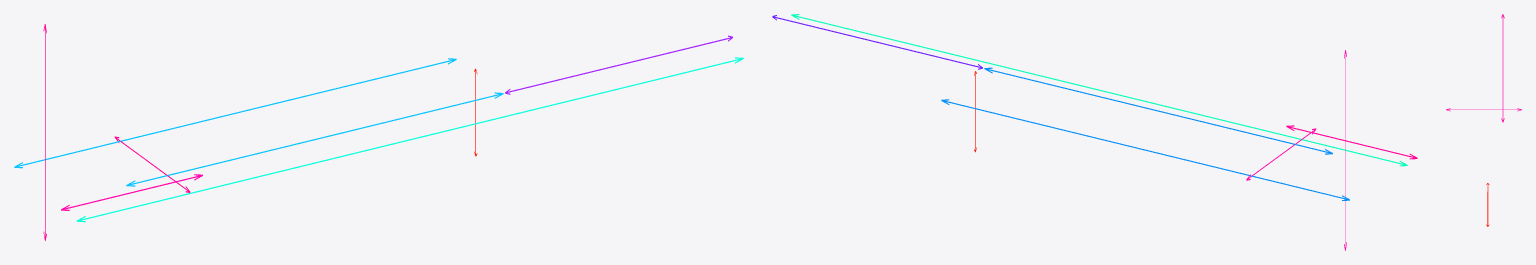
Rendered from fleches.gltf.
3 views of the same model, side by side, from view 1: azimuth 30°, elevation 25°; view 2: azimuth 150°, elevation 25°; view 3: azimuth 270°, elevation 25° (orthographic). The views are drawn at different scales.
Visible parts, largest first — view 1: longueur_totale_regie_drap_proj, fleches_9m_balcon_drap_proj, fleches_7m70_balcon_table_mix, fleches_7m20_balcon_to_regie; view 2: longueur_totale_regie_drap_proj, fleches_9m_balcon_drap_proj, fleches_7m70_balcon_table_mix, fleches_7m20_balcon_to_regie; view 3: fleches_6m_hauteur_scene, fleches_largeur_scene, fleches__2m50_hauteur_balcon.
Boxes of the visible parts, box(x1,y1,x2,y2) form: longueur_totale_regie_drap_proj: box(76, 57, 743, 222); fleches_9m_balcon_drap_proj: box(14, 58, 456, 168); fleches_7m70_balcon_table_mix: box(126, 92, 503, 186); fleches_7m20_balcon_to_regie: box(505, 35, 732, 94); longueur_totale_regie_drap_proj: box(791, 14, 1407, 166); fleches_9m_balcon_drap_proj: box(941, 99, 1349, 200); fleches_7m70_balcon_table_mix: box(984, 67, 1332, 154); fleches_7m20_balcon_to_regie: box(772, 15, 982, 69); fleches_6m_hauteur_scene: box(1501, 14, 1504, 122); fleches_largeur_scene: box(1446, 108, 1521, 111); fleches__2m50_hauteur_balcon: box(1486, 183, 1489, 226).
Bounding box in the file's own units: 6.53 × 2.03 × 1.25.
